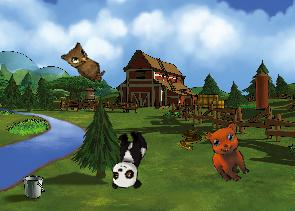bear: (197, 117, 262, 187)
owl: (58, 38, 112, 84)
panda: (109, 128, 148, 191)
